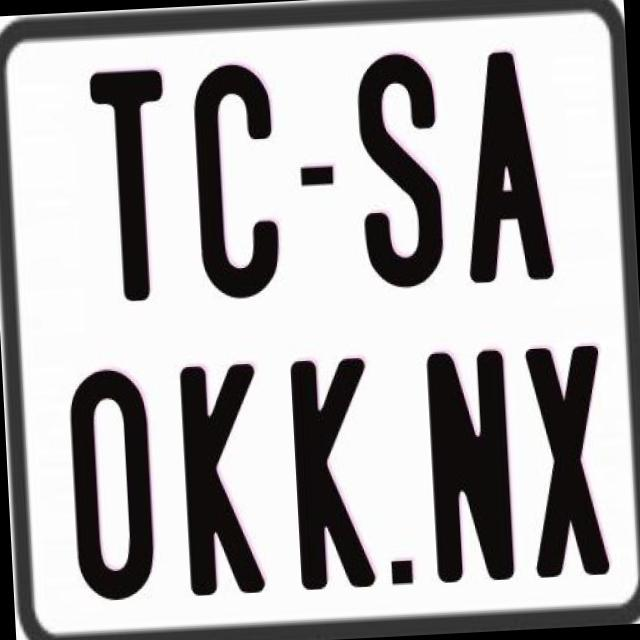0: (64, 364, 158, 606)
A: (454, 45, 554, 288)
C: (192, 61, 286, 305)
K: (286, 354, 381, 590), (177, 363, 265, 602)
N: (422, 344, 514, 579)
S: (354, 51, 448, 294)
T: (86, 68, 176, 309)
X: (522, 342, 610, 576)
